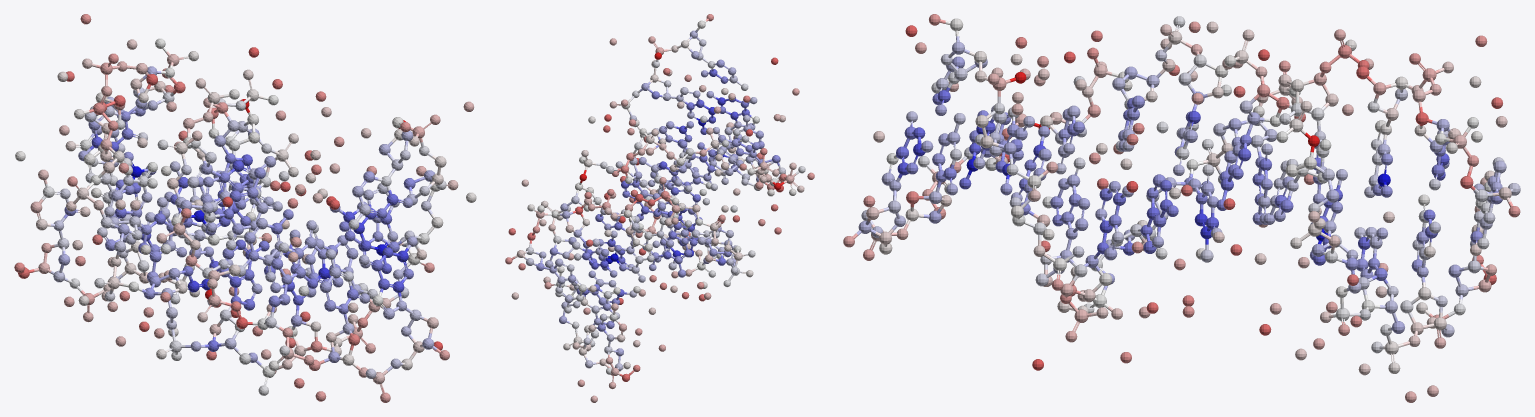
The model's file is 1bna__ball_and_stick__b-factor.glb.
The picture shows the model from 3 angles, left to right: view 1: azimuth 30°, elevation 25°; view 2: azimuth 150°, elevation 25°; view 3: azimuth 270°, elevation 25°; orthographic projection. The views are drawn at different scales.
Visible parts, largest first — view 1: Renderer Node; view 2: Renderer Node; view 3: Renderer Node.
Part boxes in pixels (x1,y1,x2,y2): Renderer Node: (14,14,476,402); Renderer Node: (505,14,814,402); Renderer Node: (843,14,1520,402).
Bounding box in the file's own units: 26.62 × 29.19 × 43.27.
